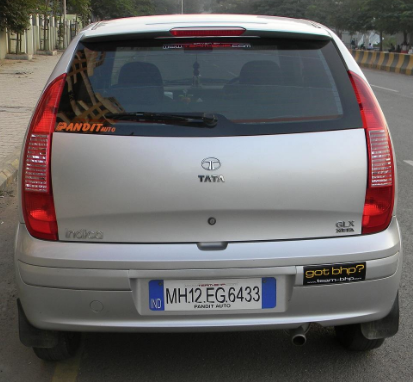car: (14, 12, 404, 365)
